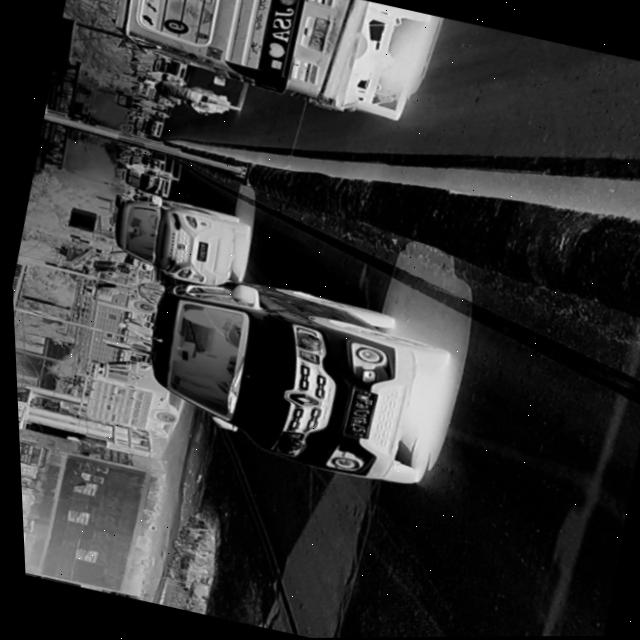0: (352, 402, 367, 409)
1: (345, 430, 360, 437)
5: (345, 425, 363, 434)
6: (348, 418, 364, 425)
7: (351, 406, 367, 414), (347, 421, 363, 429)
C: (350, 410, 366, 418)
E: (349, 414, 365, 421)
IND: (353, 388, 365, 396)
Indian_registered: (341, 389, 373, 437)
M: (353, 393, 368, 401)
P: (353, 397, 369, 405)
